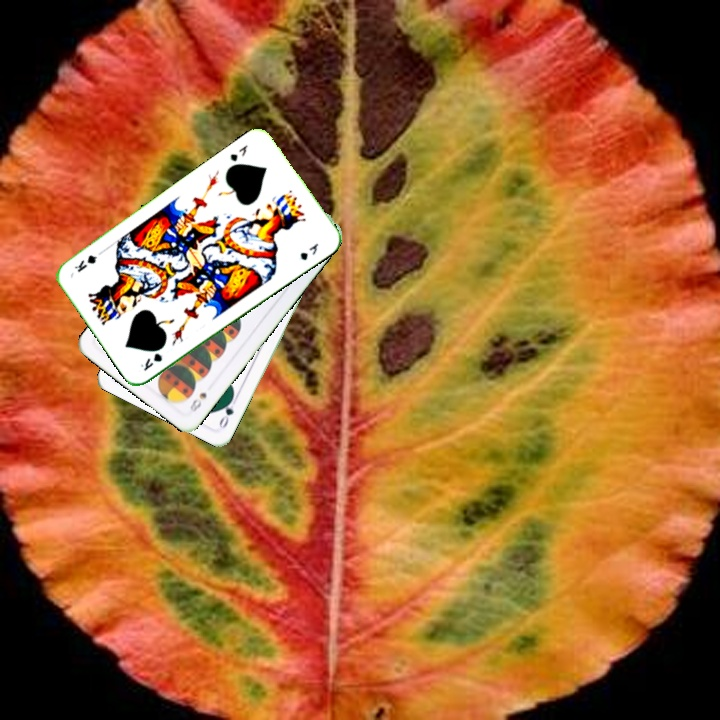GK: (137, 349, 165, 374), (226, 140, 250, 164)
GO: (215, 392, 240, 431)
S8: (186, 388, 209, 417)
